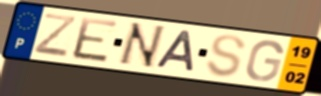A: (154, 29, 196, 74)
E: (71, 16, 121, 65)
G: (244, 39, 286, 83)
N: (115, 21, 168, 71)
S: (204, 33, 248, 79)
Z: (31, 11, 79, 59)
